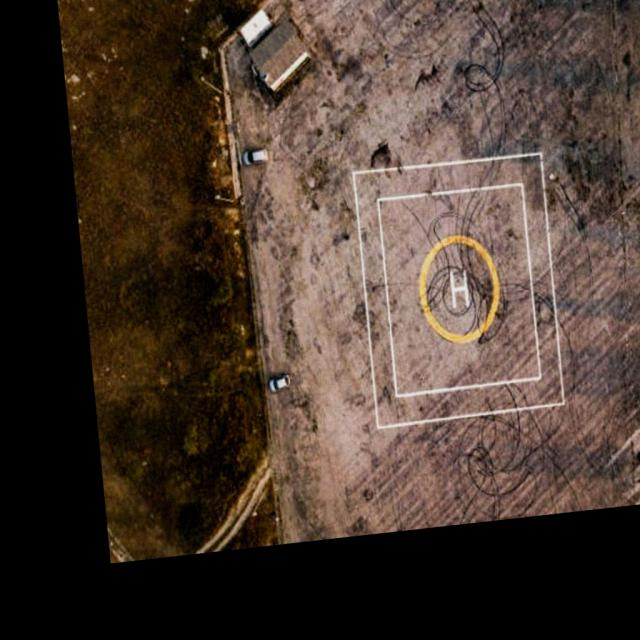helipad: (414, 230, 502, 346)
